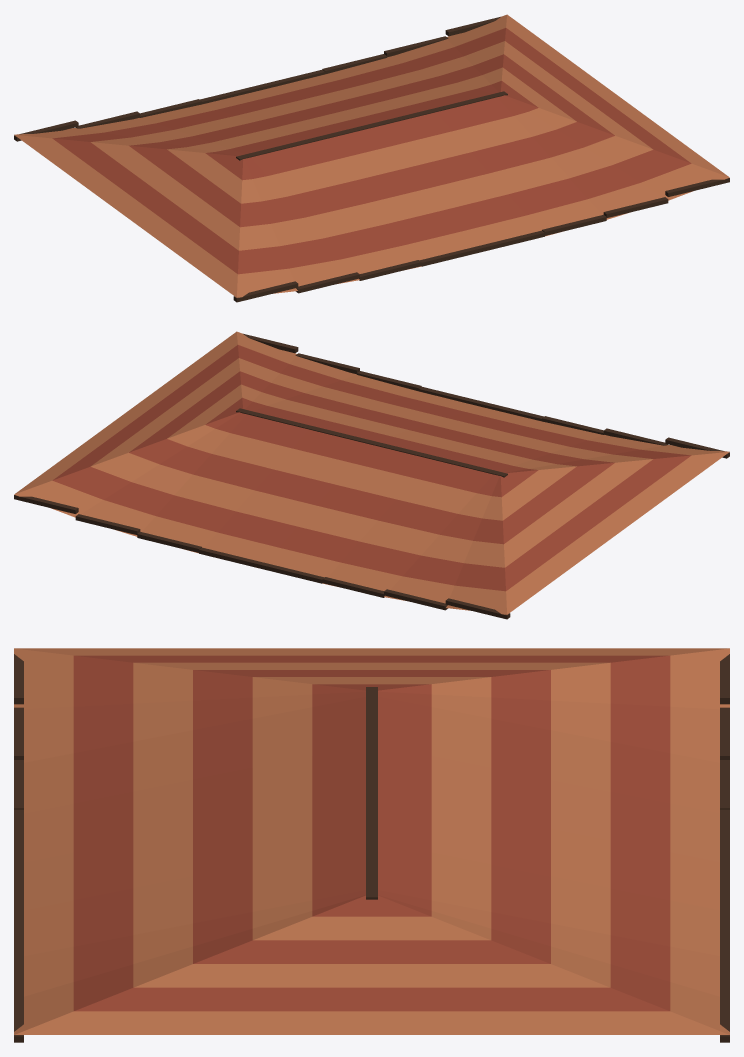
Rendered from env_house_shop_roof.glb.
The picture shows the model from 3 angles, top to bottom: view 1: azimuth 30°, elevation 25°; view 2: azimuth 150°, elevation 25°; view 3: azimuth 270°, elevation 25°; orthographic projection. The views are drawn at different scales.
Visible parts, largest first — view 1: ENV_House_Shop_Roof; view 2: ENV_House_Shop_Roof; view 3: ENV_House_Shop_Roof.
Boxes of the visible parts, x1=… form: ENV_House_Shop_Roof: x1=14, y1=14, x2=729, y2=302; ENV_House_Shop_Roof: x1=14, y1=331, x2=729, y2=619; ENV_House_Shop_Roof: x1=14, y1=648, x2=729, y2=1042.
Bounding box in the file's own units: 9.2 × 0.8 × 7.2.
